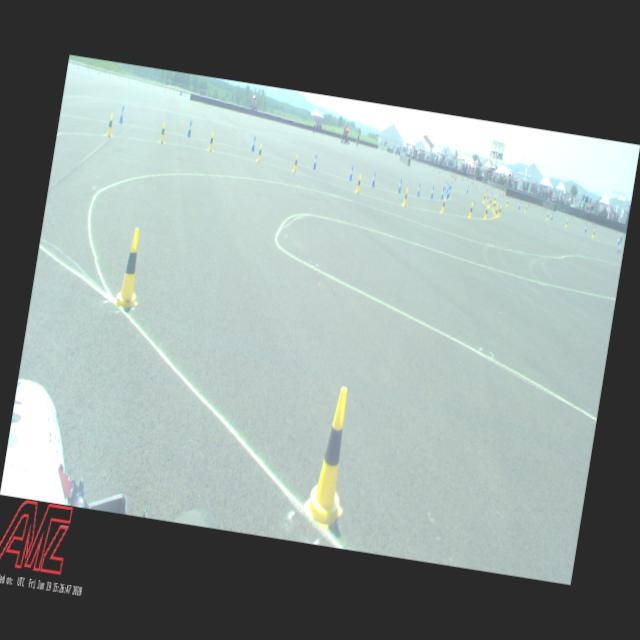blue_cone: (118, 105, 125, 124), (187, 120, 194, 137), (348, 165, 354, 181), (397, 178, 403, 194), (371, 172, 377, 188), (312, 154, 318, 170), (250, 136, 256, 152), (416, 183, 422, 197), (430, 186, 435, 200), (440, 188, 445, 200), (447, 186, 451, 199), (446, 188, 450, 200), (617, 236, 621, 246), (550, 212, 554, 220), (584, 224, 587, 233), (518, 202, 521, 210), (444, 182, 447, 190), (466, 185, 469, 192), (446, 184, 448, 194), (450, 182, 452, 190)
yellow_cone: (301, 384, 362, 534), (114, 226, 150, 311), (106, 113, 116, 138), (159, 122, 168, 144), (256, 143, 264, 163), (355, 174, 363, 194), (208, 132, 215, 152), (292, 154, 299, 173), (402, 188, 409, 207), (440, 197, 447, 214), (468, 202, 474, 220), (484, 205, 489, 220), (498, 205, 502, 218), (494, 206, 498, 219), (494, 201, 498, 214), (564, 218, 568, 228), (492, 201, 496, 211), (488, 198, 492, 208), (482, 194, 486, 203), (524, 204, 528, 213), (592, 228, 595, 238), (546, 212, 549, 221), (486, 193, 489, 202), (494, 196, 496, 204), (506, 200, 508, 208)
